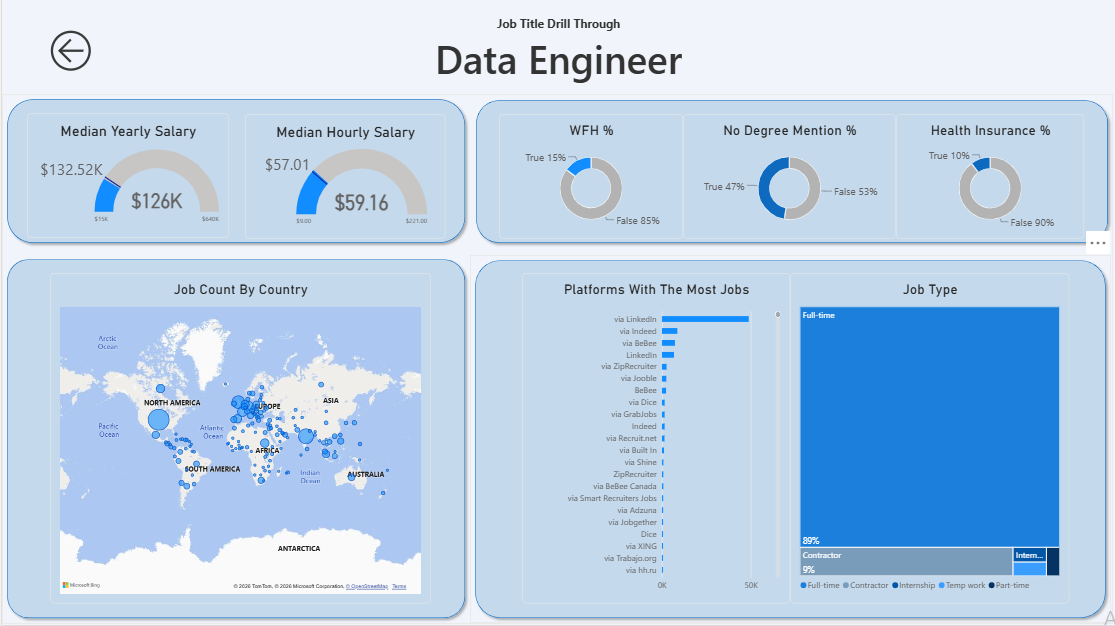

The page's visual inventory and layout, read from the dashboard file:
{"tool":"powerbi","page":{"name":"Job Title Drill Through","canvas":[1920,1080],"ordinal":1},"visuals":[{"type":"group","id":"g1","title":"Background","box":[0,167.8,1913,911.5],"z":0},{"type":"shape","box":[0,167.8,806.4,265.5],"z":0,"group":"g1"},{"type":"cardVisual","fields":{"Data":["Min(job_postings_flat.job_title_short)1"]},"box":[483.5,0,949.1,184.3],"z":1000},{"type":"shape","box":[807.2,169.6,1105.8,263.6],"z":1000,"group":"g1"},{"type":"actionButton","box":[0,0,238,184.3],"z":2000},{"type":"shape","box":[0,443.2,806.4,636],"z":2000,"group":"g1"},{"type":"gauge","title":"Median Yearly Salary","fields":{"MaxValue":["Max(job_postings_flat.salary_year_avg)2"],"MinValue":["Min(job_postings_flat.salary_year_avg)1"],"TargetValue":["Avg(job_postings_flat.salary_year_avg)3"],"Y":["Median(job_postings_flat.salary_year_avg)"]},"box":[43.6,200.1,347.6,214.6],"z":3000},{"type":"shape","box":[806.4,445.2,1103.7,634.1],"z":3000,"group":"g1"},{"type":"gauge","title":"Median Hourly Salary","fields":{"MaxValue":["Max(job_postings_flat.salary_hour_avg)2"],"MinValue":["Min(job_postings_flat.salary_hour_avg)1"],"TargetValue":["Avg(job_postings_flat.salary_hour_avg)3"],"Y":["Median(job_postings_flat.salary_hour_avg)"]},"box":[417.6,200.6,345.3,214.6],"z":4000},{"type":"donutChart","title":"WFH %","fields":{"Category":["job_postings_flat.job_work_from_home"],"Y":["CountNonNull(job_postings_flat.job_work_from_home)"]},"box":[856.2,200.6,317.3,214.6],"z":5000},{"type":"donutChart","title":"No Degree Mention %","fields":{"Category":["job_postings_flat.job_no_degree_mention"],"Y":["CountNonNull(job_postings_flat.job_no_degree_mention)"]},"box":[1173.5,200.6,366.3,214.6],"z":6000},{"type":"donutChart","title":"Health Insurance %","fields":{"Category":["job_postings_flat.job_health_insurance"],"Y":["CountNonNull(job_postings_flat.job_health_insurance)"]},"box":[1539.7,200.6,324.3,214.6],"z":7000},{"type":"map","title":"Job Count By Country","fields":{"Category":["job_postings_flat.job_country"],"Size":["CountNonNull(job_postings_flat.job_title_short)"]},"box":[83.2,475.5,655.9,568.7],"z":8000},{"type":"treemap","title":"Job Type","fields":{"Group":["job_postings_flat.job_schedule_type"],"Values":["CountNonNull(job_postings_flat.job_schedule_type)"]},"box":[1357.3,475.5,481.5,568.7],"z":9000},{"type":"barChart","title":"Platforms With The Most Jobs","fields":{"Category":["job_postings_flat.job_via"],"Y":["CountNonNull(job_postings_flat.job_via)"]},"box":[895.6,475.5,461.7,568.7],"z":10000}]}

Visuals, with their boxes in screenshot pixels (x1, y1, x2, y2), scaled from the page's 1920x1080 canvas onto the 1115x626 screenshot:
"Background" group: 0 97 1111 625
shape: 0 97 468 251
cardVisual - Min(job_postings_flat.job_title_short)1: 281 0 832 107
shape: 469 98 1111 251
actionButton: 0 0 138 107
shape: 0 257 468 625
"Median Yearly Salary" gauge: 25 116 227 240
shape: 468 258 1109 625
"Median Hourly Salary" gauge: 243 116 443 241
"WFH %" donutChart: 497 116 681 241
"No Degree Mention %" donutChart: 681 116 894 241
"Health Insurance %" donutChart: 894 116 1082 241
"Job Count By Country" map: 48 276 429 605
"Job Type" treemap: 788 276 1068 605
"Platforms With The Most Jobs" barChart: 520 276 788 605
